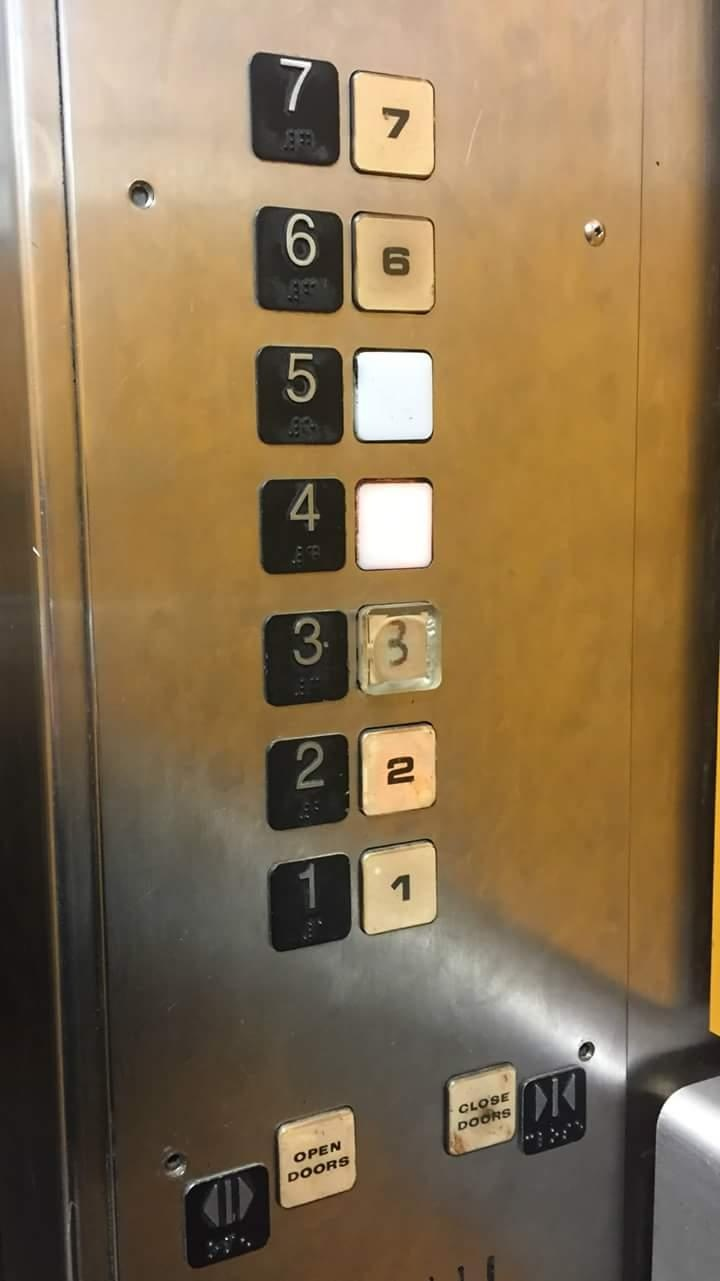1: (265, 848, 354, 955), (358, 836, 440, 939)
2: (264, 730, 351, 833), (357, 720, 438, 820)
3: (261, 606, 350, 709), (354, 598, 445, 697)
4: (257, 475, 348, 579)
5: (254, 343, 345, 449)
6: (253, 202, 346, 317), (351, 205, 437, 314)
7: (248, 45, 341, 169), (348, 68, 438, 181)
close: (520, 1064, 588, 1156)
empty: (354, 345, 437, 443), (355, 480, 437, 569)
open: (181, 1157, 273, 1273)
text: (275, 1103, 358, 1210), (441, 1058, 519, 1158)
